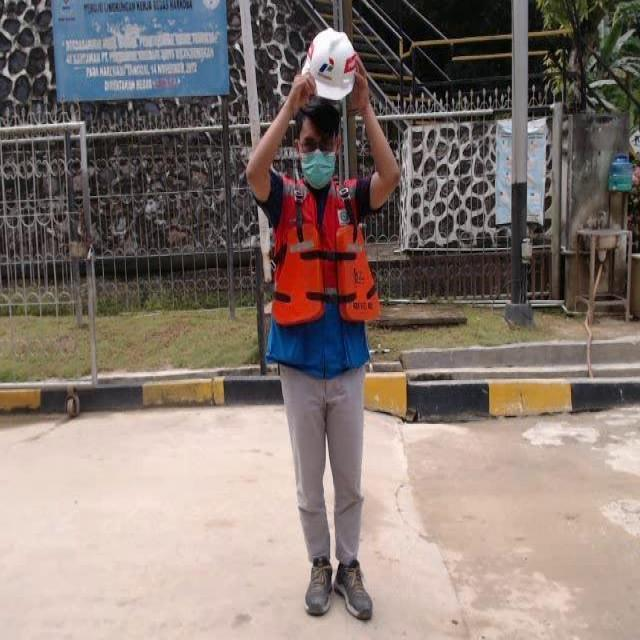vest: (269, 216, 384, 328)
